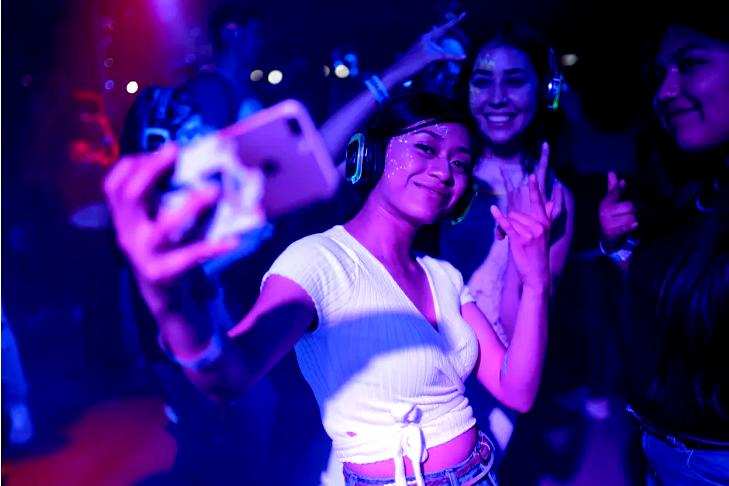face: (649, 23, 724, 156), (382, 123, 471, 223), (466, 45, 538, 144)
